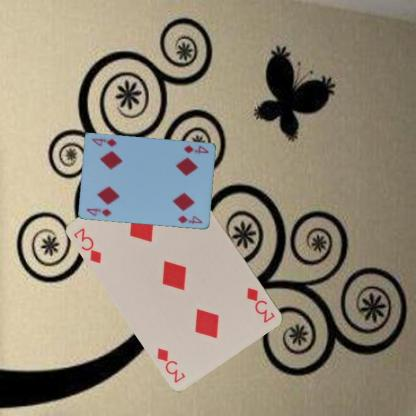3d: (244, 285, 277, 325), (71, 225, 103, 265)
4d: (84, 205, 113, 218), (182, 142, 210, 155)
